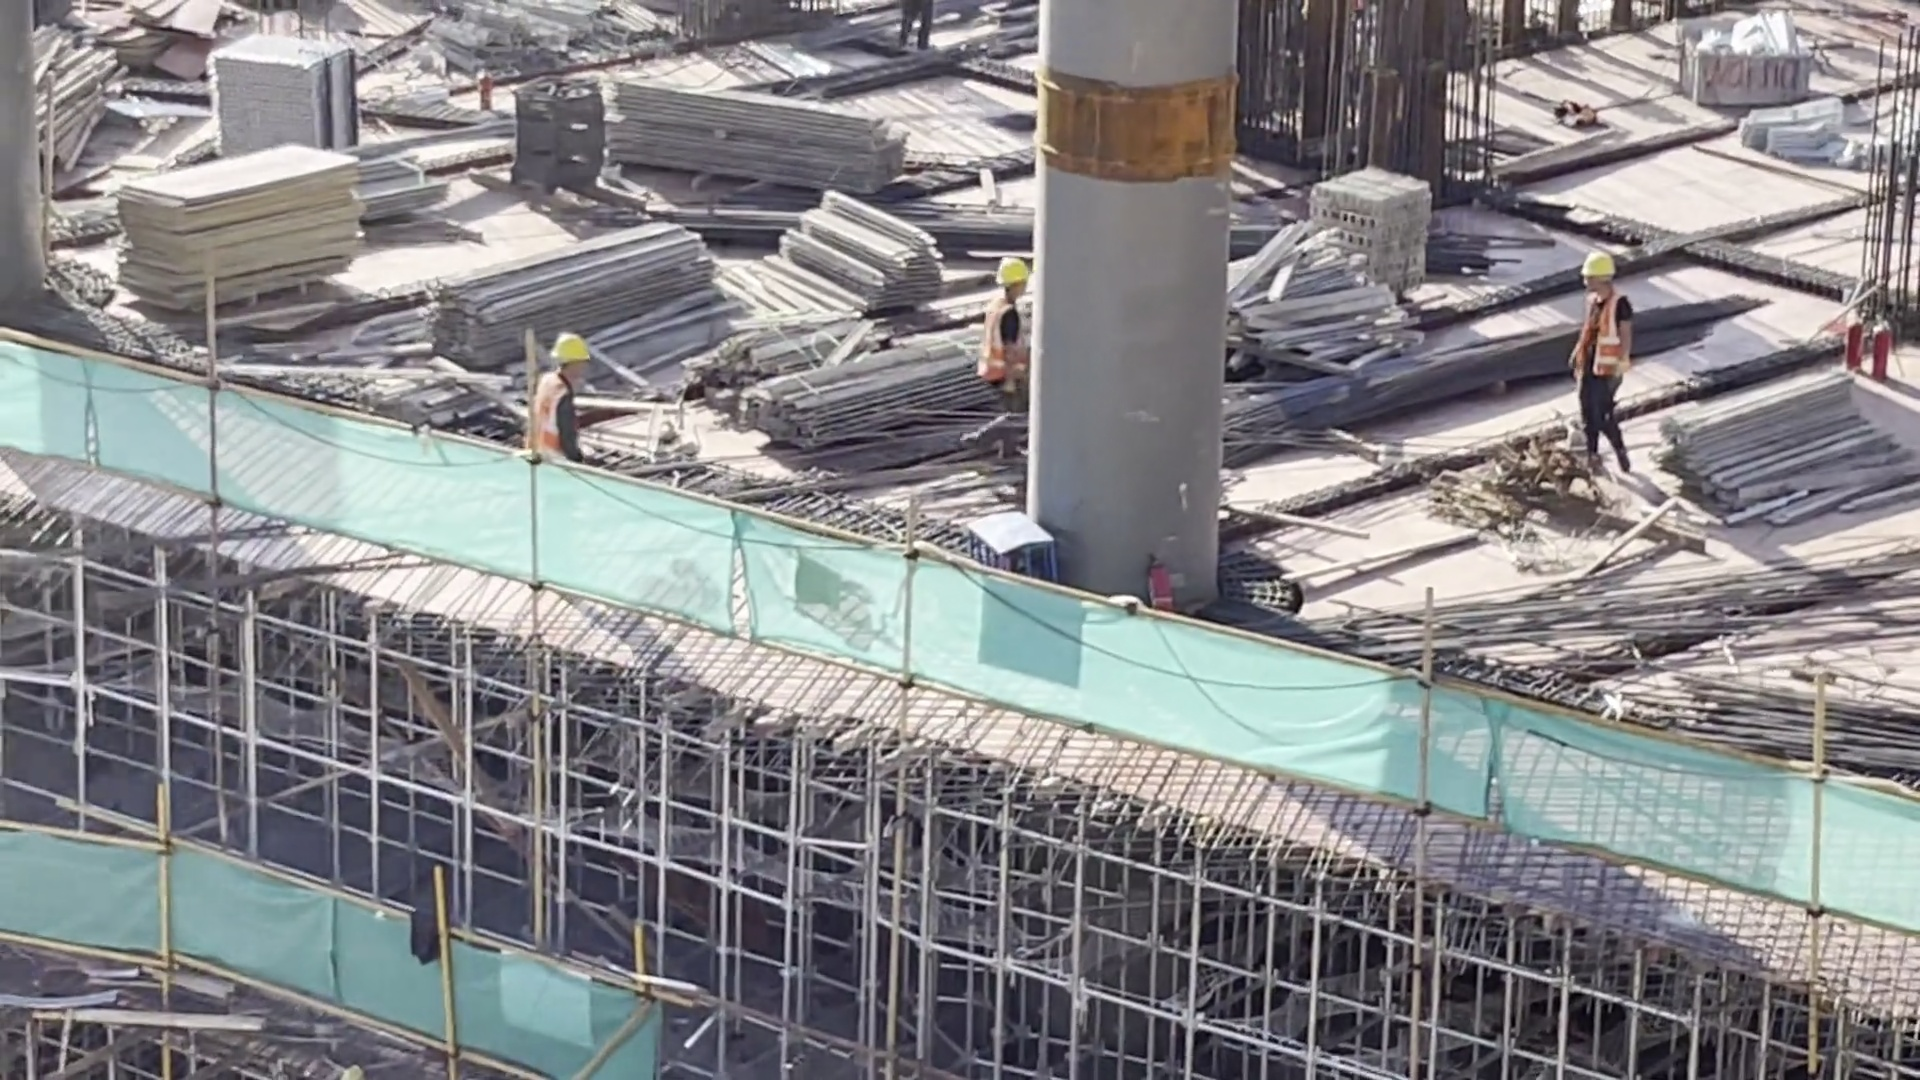board: (112, 149, 367, 298)
helmet: (983, 297, 1038, 392), (538, 329, 596, 378), (989, 249, 1029, 296), (1579, 252, 1616, 290)
hopper: (1663, 4, 1828, 120)
person: (1554, 241, 1652, 469), (962, 250, 1049, 430), (522, 326, 596, 472)
vest: (1576, 296, 1635, 386), (534, 376, 586, 449)
wood: (1647, 346, 1908, 531), (421, 220, 722, 380), (628, 97, 926, 211), (778, 185, 945, 319)
